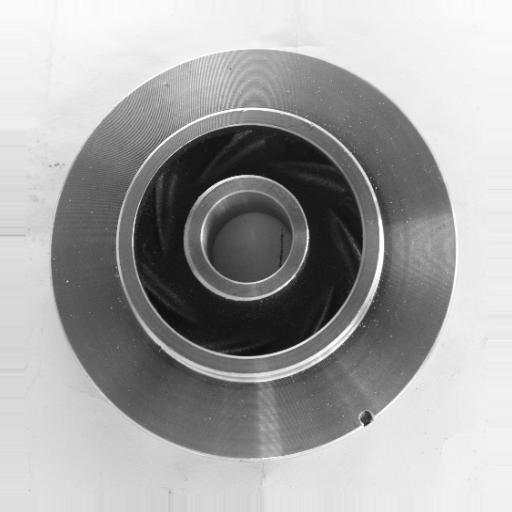pit: (350, 401, 382, 434)
unpolished_casting: (48, 46, 458, 462)
